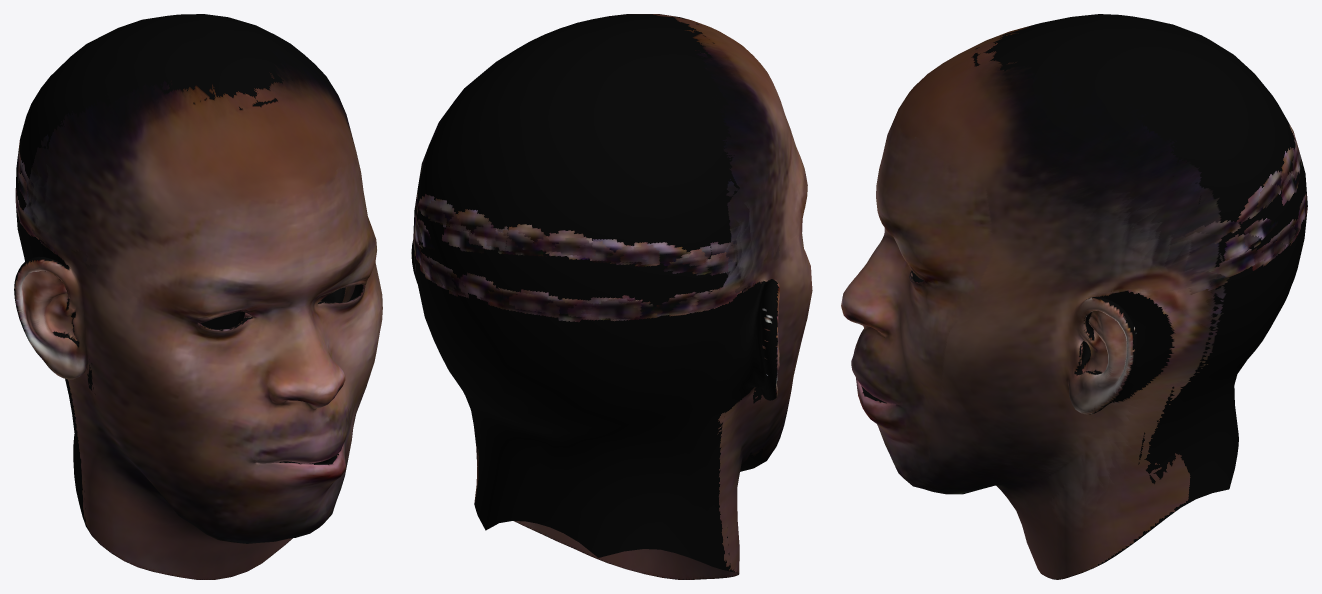
File: JawRight.obj
3 views of the same model, side by side, from view 1: azimuth 30°, elevation 25°; view 2: azimuth 150°, elevation 25°; view 3: azimuth 270°, elevation 25° (orthographic). The views are drawn at different scales.
Bounding box in the file's own units: 191 × 280 × 223.
